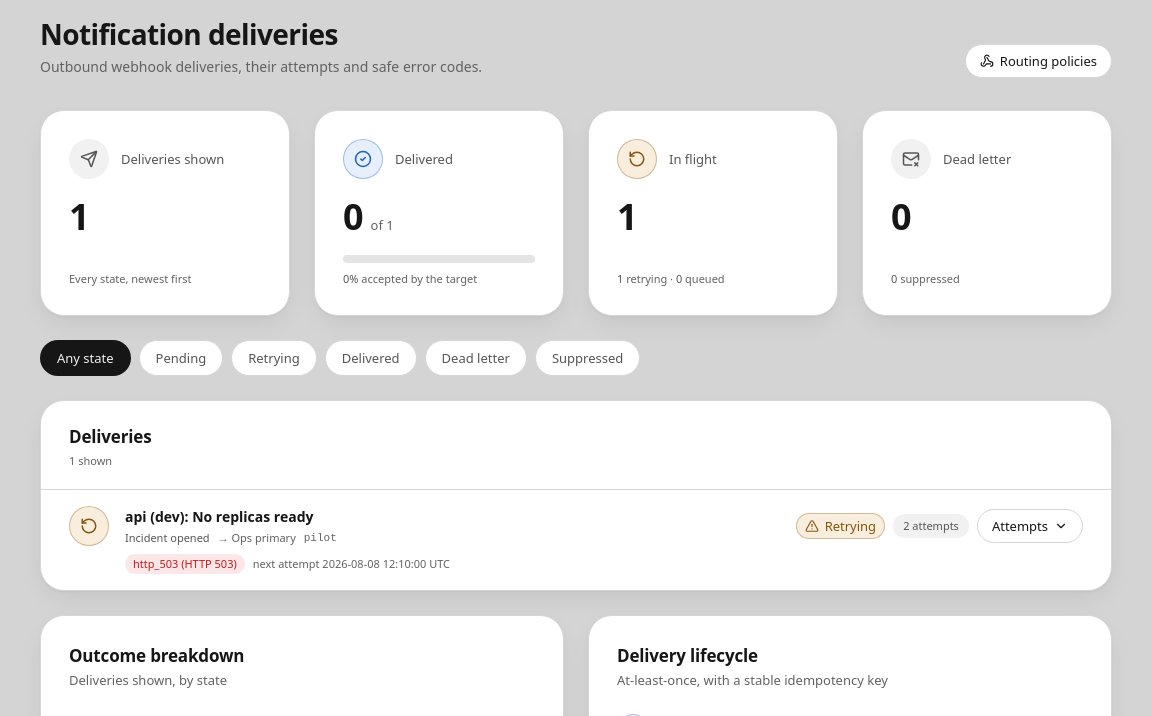
Test: delivery audit › expands an attempt timeline without exposing a target or body
Click the button "Attempts": point(1030, 526) [977,509,1083,543]
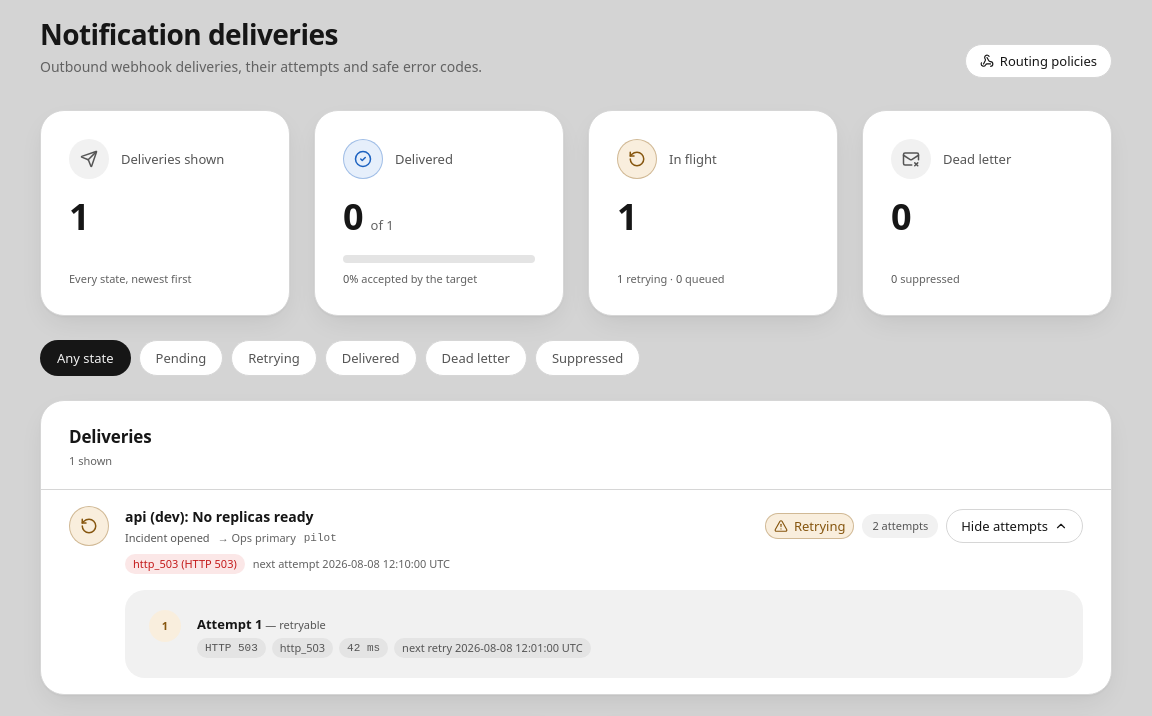
Check: the list with test id "attempt-timeline" shows "Attempt 1", box [197,615,262,633]
Check: the list with test id "attempt-timeline" shows "42 ms", box [347,642,380,654]
